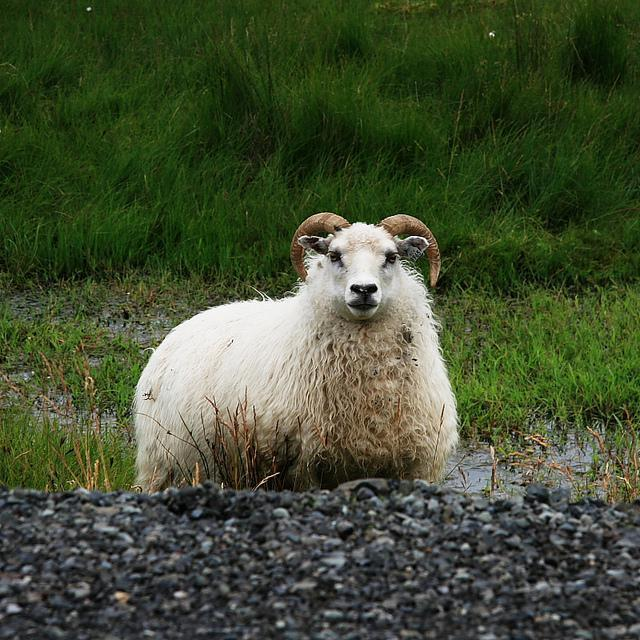Sheep: (130, 213, 464, 491)
